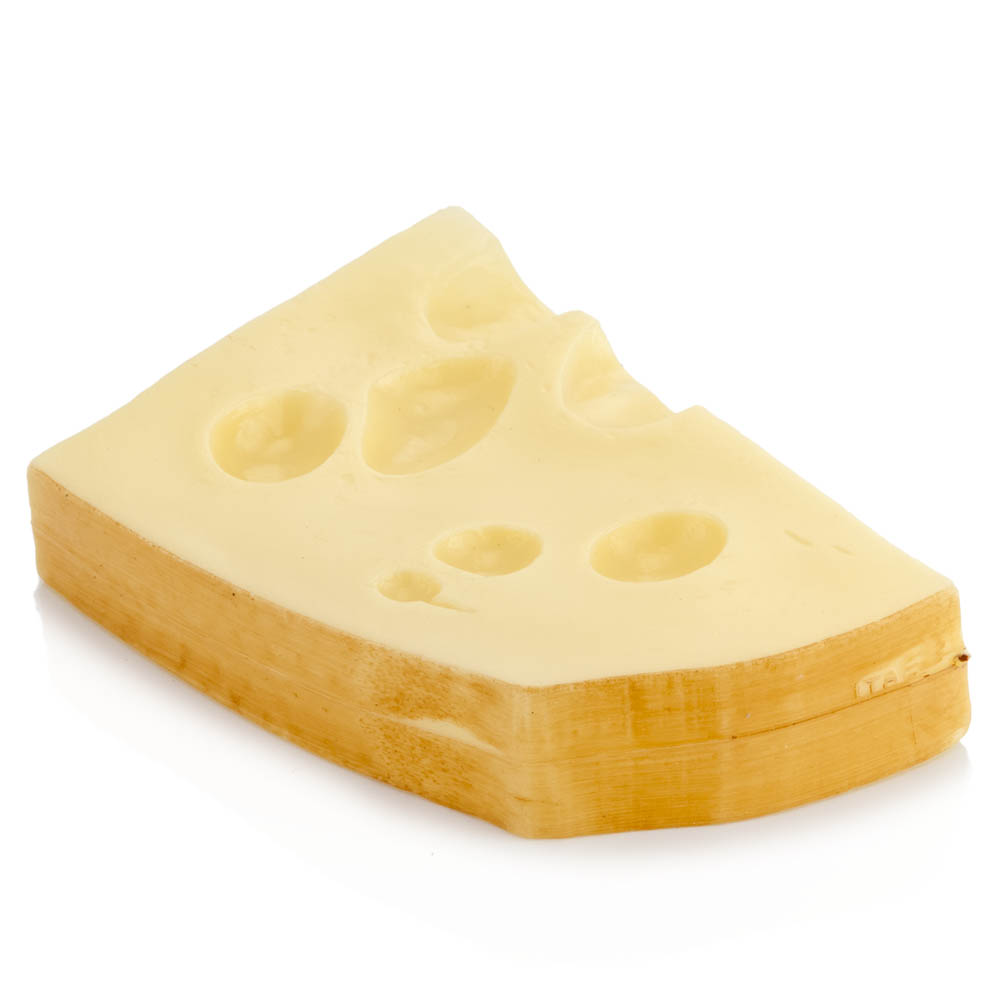cheese: (21, 199, 975, 858)
